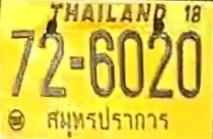0: (118, 29, 144, 98), (176, 30, 202, 98)
2: (39, 32, 66, 98), (146, 31, 172, 98)
6: (89, 29, 115, 98)
7: (10, 28, 35, 97)
SPK: (43, 105, 172, 134)
